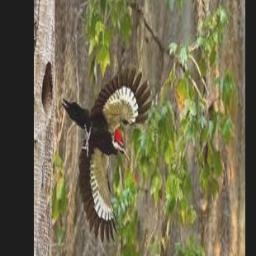Woodpecker: (62, 65, 154, 240)
